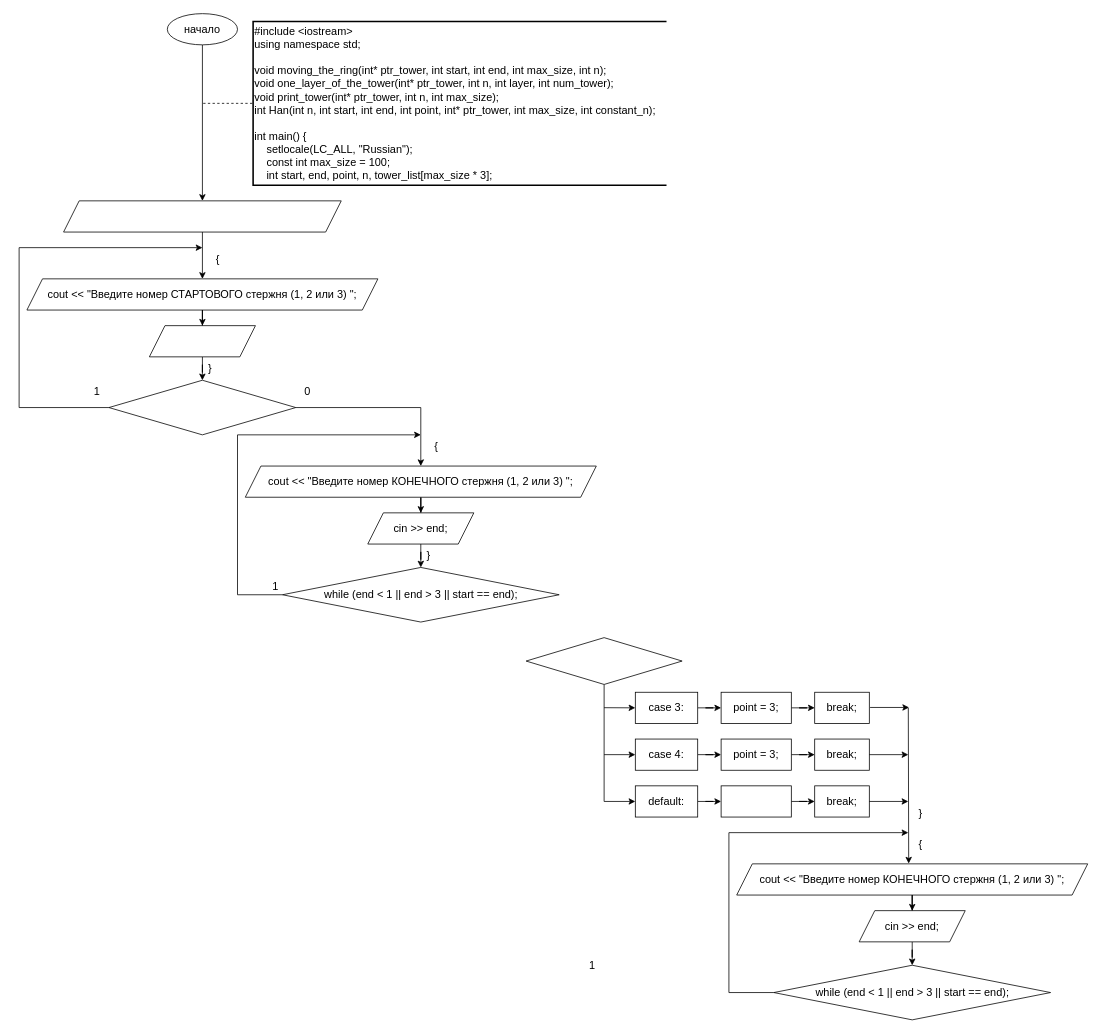
This 1101x1034 diagram has some shape labels left out. Each missing label, with the centre of its shape:
cin >> start;: [202,341]
cout << " Ханойская башня " << endl << "Даны 3 стержня" << endl;: [202,216]
point = 1;: [755,801]
switch (start + end){: [603,660]
while (start < 1 || start > 3);: [202,407]
